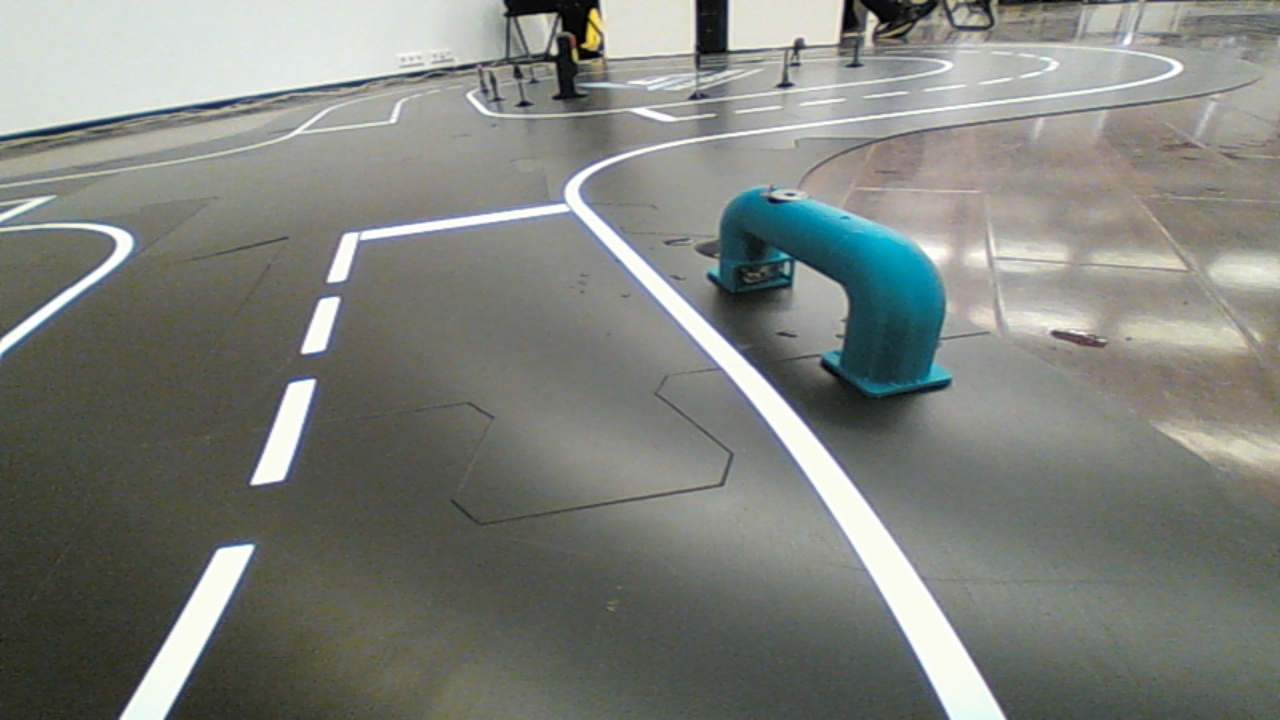Pedestrian crossing: (680, 163, 975, 420)
